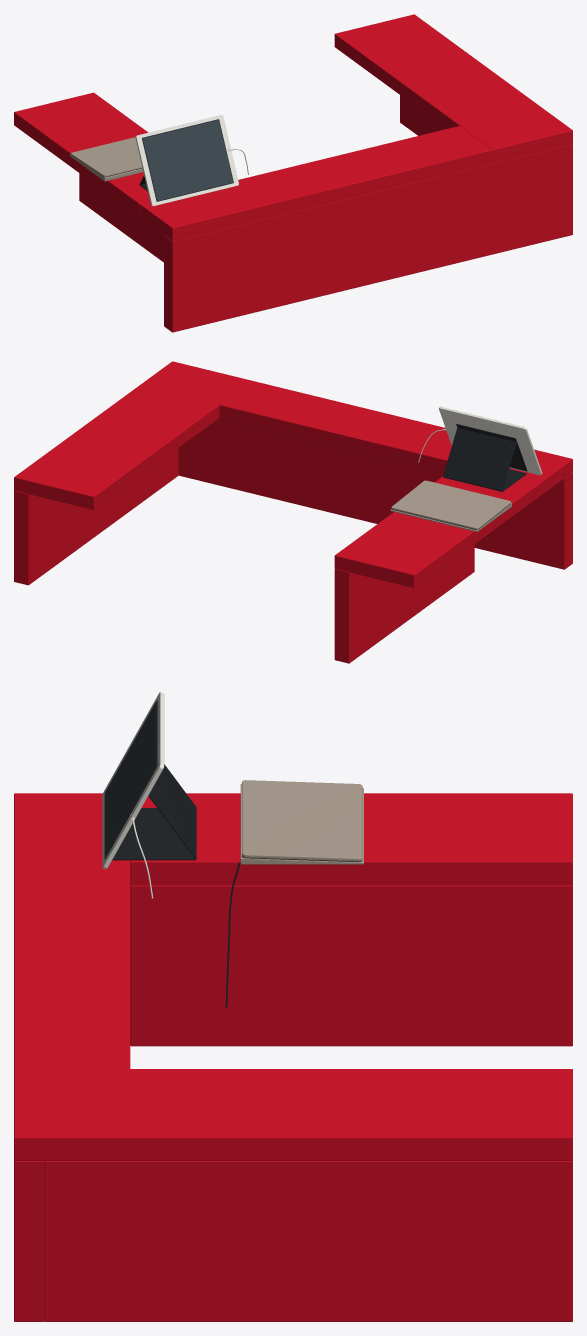
The model's file is tkts.glb.
The picture shows the model from 3 angles, top to bottom: view 1: azimuth 30°, elevation 25°; view 2: azimuth 150°, elevation 25°; view 3: azimuth 270°, elevation 25°; orthographic projection. The views are drawn at different scales.
Parts seen in each view (by area): view 1: batch_01_Gloss_red_estimated, batch_03_Neutral_screen_UI_intentionally_omitted, batch_04_Observed_warm_metal_laptop_shell, batch_01_Observed_ivory_frame_and_white_lead, batch_02_Observed_dark_folio_and_cable; view 2: batch_01_Gloss_red_estimated, batch_02_Observed_dark_folio_and_cable, batch_04_Observed_warm_metal_laptop_shell, batch_01_Observed_ivory_frame_and_white_lead; view 3: batch_01_Gloss_red_estimated, batch_04_Observed_warm_metal_laptop_shell, batch_02_Observed_dark_folio_and_cable, batch_03_Neutral_screen_UI_intentionally_omitted, batch_01_Observed_ivory_frame_and_white_lead.
Part boxes in pixels (x1=…): batch_01_Gloss_red_estimated: x1=14, y1=14, x2=572, y2=332; batch_03_Neutral_screen_UI_intentionally_omitted: x1=142, y1=120, x2=232, y2=200; batch_04_Observed_warm_metal_laptop_shell: x1=70, y1=137, x2=230, y2=181; batch_01_Observed_ivory_frame_and_white_lead: x1=135, y1=115, x2=248, y2=206; batch_02_Observed_dark_folio_and_cable: x1=71, y1=119, x2=233, y2=201; batch_01_Gloss_red_estimated: x1=14, y1=361, x2=572, y2=663; batch_02_Observed_dark_folio_and_cable: x1=392, y1=424, x2=527, y2=530; batch_04_Observed_warm_metal_laptop_shell: x1=390, y1=480, x2=511, y2=531; batch_01_Observed_ivory_frame_and_white_lead: x1=418, y1=406, x2=542, y2=475; batch_01_Gloss_red_estimated: x1=14, y1=793, x2=572, y2=1321; batch_04_Observed_warm_metal_laptop_shell: x1=130, y1=780, x2=363, y2=864; batch_02_Observed_dark_folio_and_cable: x1=104, y1=700, x2=362, y2=1007; batch_03_Neutral_screen_UI_intentionally_omitted: x1=105, y1=701, x2=156, y2=857; batch_01_Observed_ivory_frame_and_white_lead: x1=102, y1=692, x2=164, y2=898.
Bounding box in the file's own units: 1.41 × 0.552 × 0.96.
